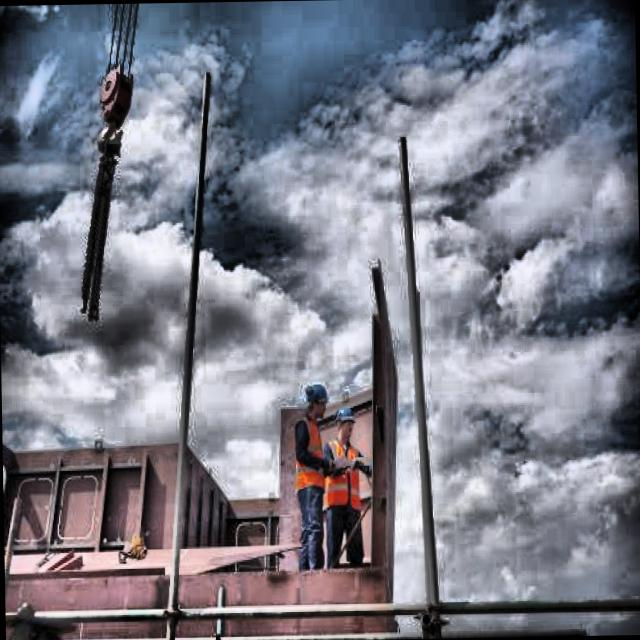helmet: (331, 406, 358, 444), (306, 381, 330, 422)
